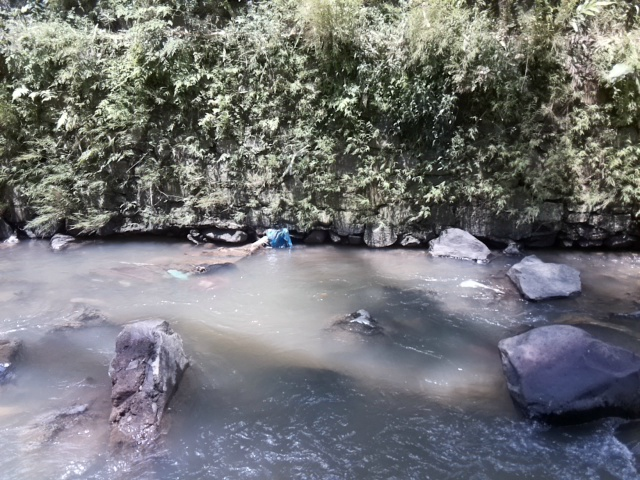Sampah_Plastik: (262, 226, 296, 252)
